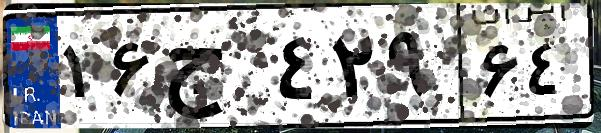1: (57, 26, 110, 100)
2: (330, 28, 385, 110)
4: (270, 28, 330, 110), (525, 38, 570, 115)
6: (475, 38, 525, 113), (110, 28, 158, 98)
9: (385, 28, 445, 110)
ج: (158, 20, 270, 120)
